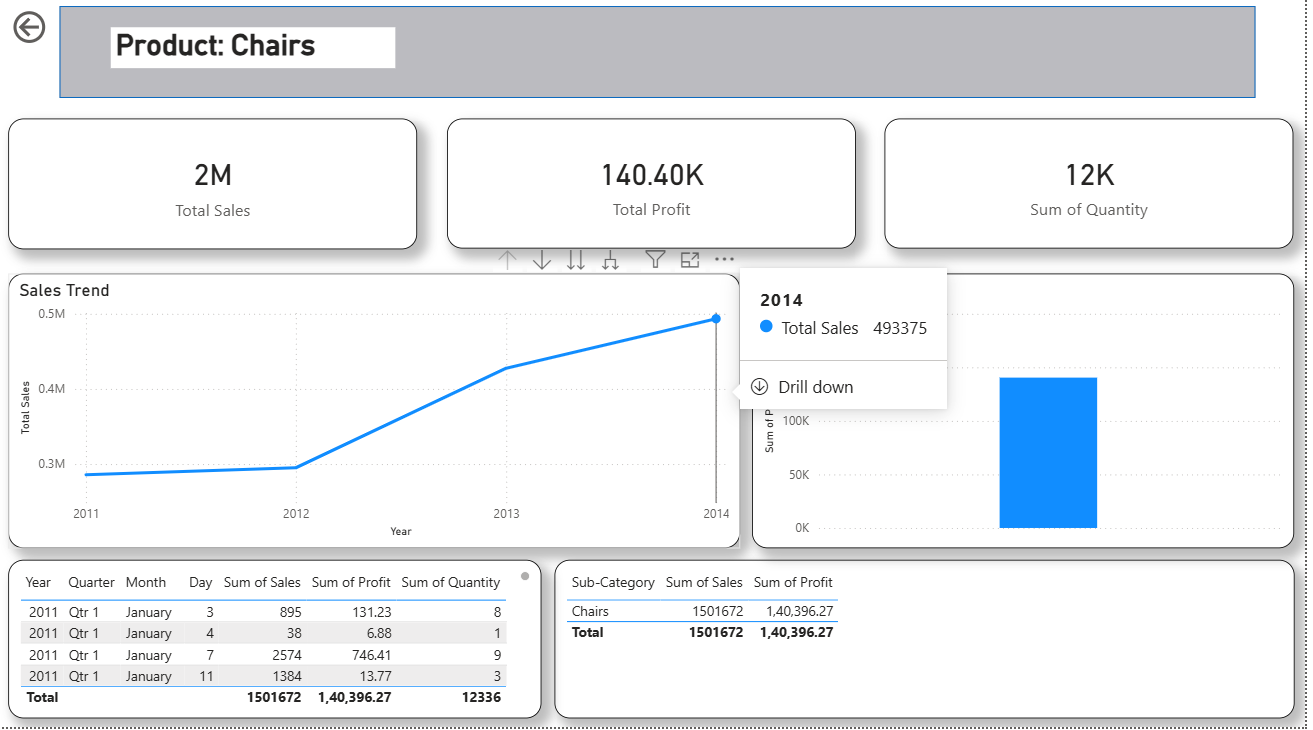

The dashboard page shown, as its layout file describes it:
{"tool":"powerbi","page":{"name":"Product Detail","canvas":[1280,720],"ordinal":1},"visuals":[{"type":"lineChart","title":"Sales Trend","fields":{"Category":["Global_Superstore2.Order Date.Variation.Date Hierarchy.Year","Global_Superstore2.Order Date.Variation.Date Hierarchy.Quarter","Global_Superstore2.Order Date.Variation.Date Hierarchy.Month","Global_Superstore2.Order Date.Variation.Date Hierarchy.Day"],"Y":["Global_Superstore2.Total Sales"]},"box":[11.2,276.2,716.2,268.8],"z":0},{"type":"card","fields":{"Values":["Global_Superstore2.Total Sales"]},"box":[11.2,125,400,128],"z":1000},{"type":"tableEx","fields":{"Values":["Global_Superstore2.Sub-Category","Sum(Global_Superstore2.Sales)","Sum(Global_Superstore2.Profit)"]},"box":[545,556.2,723.8,155],"z":2000},{"type":"actionButton","box":[11.2,15,100,41.2],"z":3000},{"type":"shape","box":[61.2,15,1170,90],"z":4000},{"type":"textbox","box":[111.2,35,278.8,40],"z":5000},{"type":"card","fields":{"Values":["Global_Superstore2.Total Profit"]},"box":[440,125,400,127.5],"z":6000},{"type":"card","fields":{"Values":["Sum(Global_Superstore2.Quantity)"]},"box":[868.8,125,400,127],"z":7000},{"type":"columnChart","fields":{"Y":["Sum(Global_Superstore2.Profit)"]},"box":[738.8,276.2,530,268.8],"z":8000},{"type":"tableEx","fields":{"Values":["Global_Superstore2.Order Date.Variation.Date Hierarchy.Year","Global_Superstore2.Order Date.Variation.Date Hierarchy.Quarter","Global_Superstore2.Order Date.Variation.Date Hierarchy.Month","Global_Superstore2.Order Date.Variation.Date Hierarchy.Day","Sum(Global_Superstore2.Sales)","Sum(Global_Superstore2.Profit)","Sum(Global_Superstore2.Quantity)"]},"box":[11.2,556.2,521.2,155],"z":9000}]}

Visuals, with their boxes in screenshot pixels (x1, y1, x2, y2), scaled from the page's 1280x720 canvas onto the 1313x730 screenshot:
"Sales Trend" lineChart: l=11, t=280, r=746, b=553
card - Global_Superstore2.Total Sales: l=11, t=127, r=422, b=257
tableEx - Global_Superstore2.Sub-Category x Sum(Global_Superstore2.Sales): l=559, t=564, r=1302, b=721
actionButton: l=11, t=15, r=114, b=57
shape: l=63, t=15, r=1263, b=106
textbox: l=114, t=35, r=400, b=76
card - Global_Superstore2.Total Profit: l=451, t=127, r=862, b=256
card - Sum(Global_Superstore2.Quantity): l=891, t=127, r=1302, b=256
columnChart - Sum(Global_Superstore2.Profit): l=758, t=280, r=1302, b=553
tableEx - Global_Superstore2.Order Date.Variation.Date Hierarchy.Year x Global_Superstore2.Order Date.Variation.Date Hierarchy.Quarter: l=11, t=564, r=546, b=721
